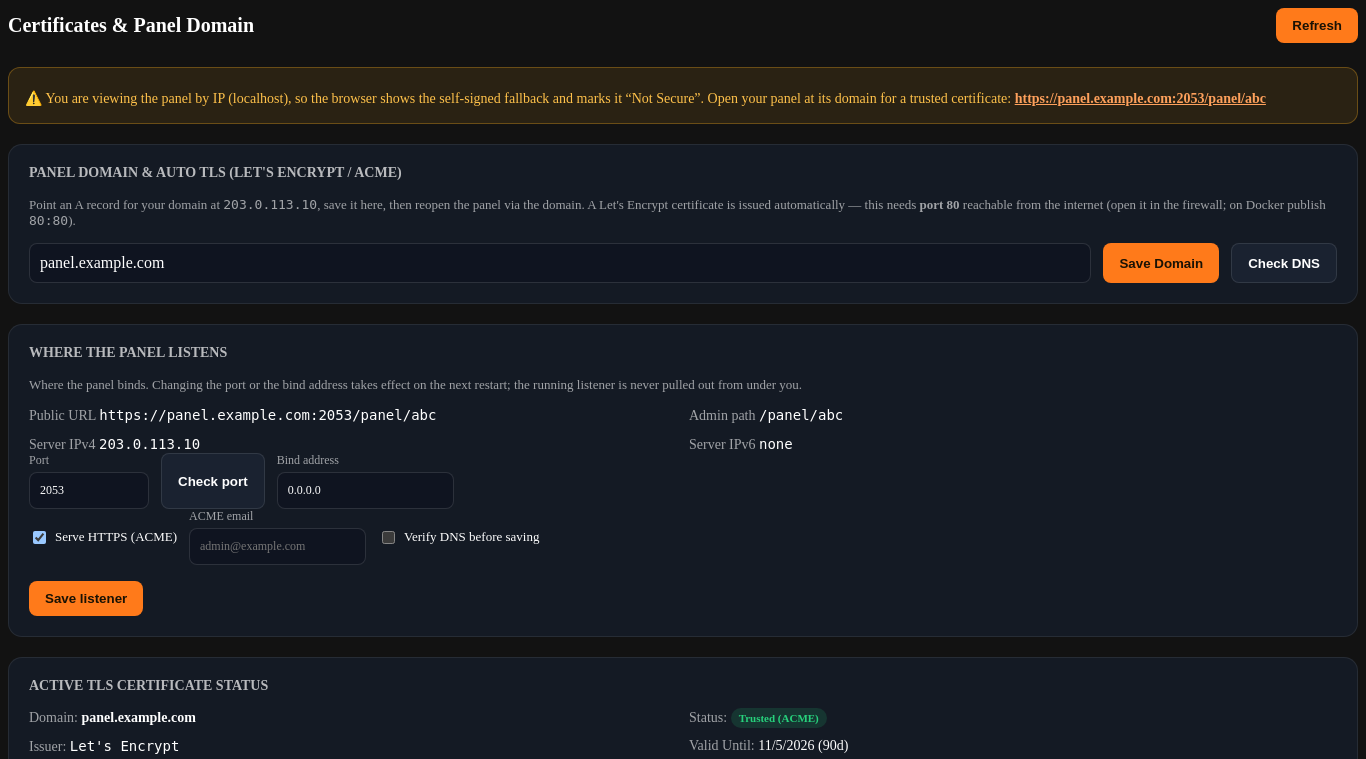
CertificatesView panel listener › distinguishes the port the panel is already on from a free one
Expected: the number field with test id "port-input" is shown, [29,472,149,509]
Click the button with test id "check-port" at (213, 481), box [161,453,265,509]
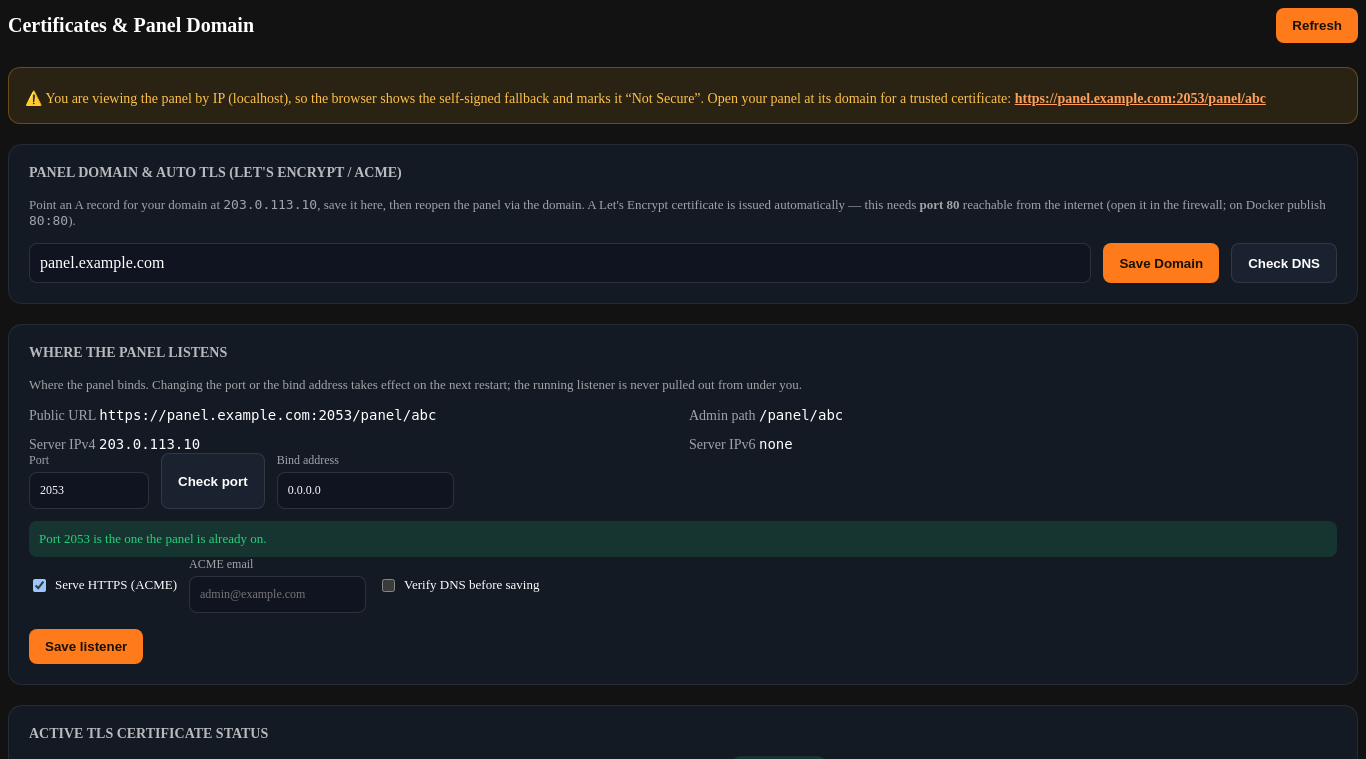
Now the text with test id "port-result" shows "already on", box [39,531,266,546]
